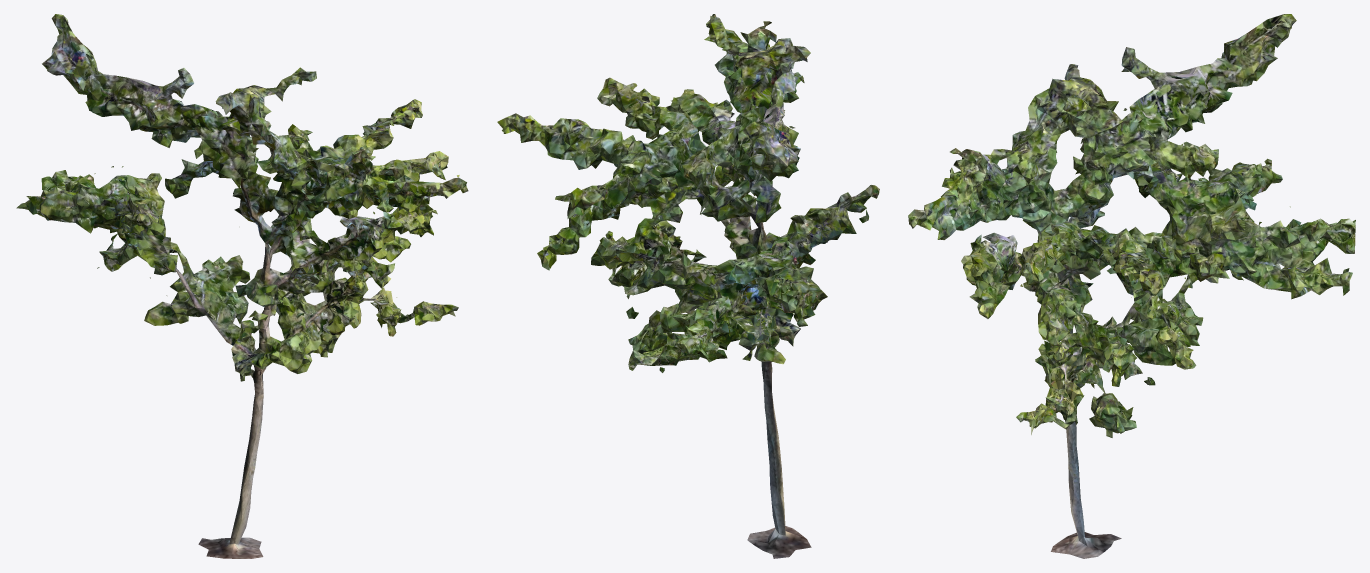
File: Ginko.glb
The picture shows the model from 3 angles, left to right: view 1: azimuth 30°, elevation 25°; view 2: azimuth 150°, elevation 25°; view 3: azimuth 270°, elevation 25°; orthographic projection. The views are drawn at different scales.
Bounding box in the file's own units: 0.3664 × 0.4755 × 0.3914.
1 material, 1 textured.
